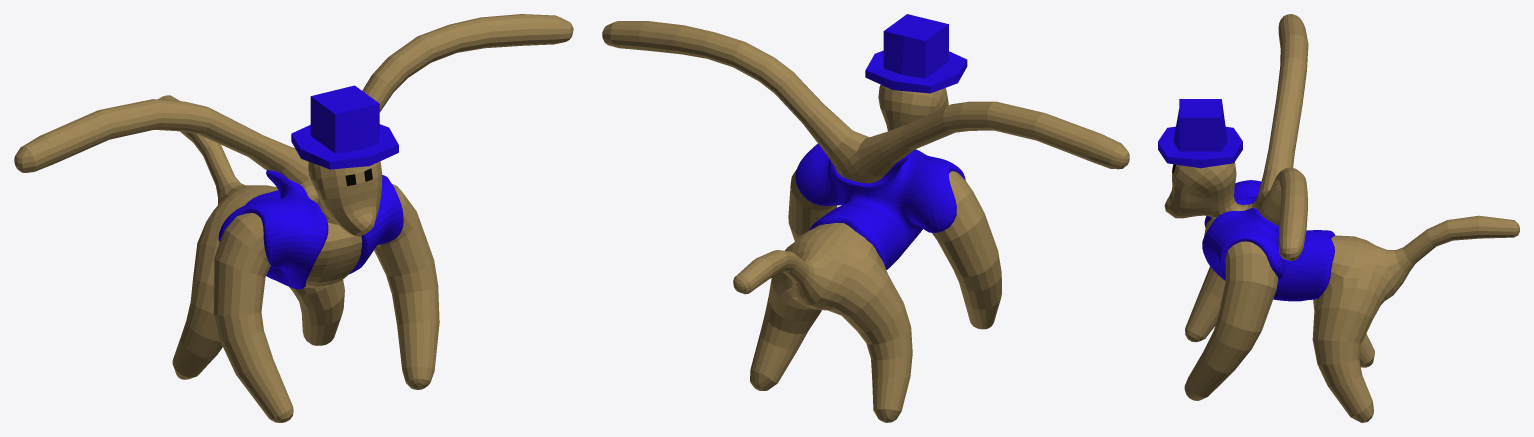
File: Monkey2Pose1.fbx
The picture shows the model from 3 angles, left to right: view 1: azimuth 30°, elevation 25°; view 2: azimuth 150°, elevation 25°; view 3: azimuth 270°, elevation 25°; orthographic projection. The views are drawn at different scales.
Parts seen in each view (by area): view 1: Monkey1, vest1, pCube8; view 2: Monkey1, vest1, pCube8; view 3: Monkey1, vest1, pCube8.
Part boxes in pixels (<box>): Monkey1: <box>14,14,573,422</box>; vest1: <box>218,170,403,289</box>; pCube8: <box>291,85,398,169</box>; Monkey1: <box>602,21,1129,422</box>; vest1: <box>795,144,965,269</box>; pCube8: <box>865,14,967,93</box>; Monkey1: <box>1164,14,1519,422</box>; vest1: <box>1202,180,1335,301</box>; pCube8: <box>1158,99,1242,168</box>.
Bounding box in the file's own units: 11.97 × 6.83 × 7.85.
